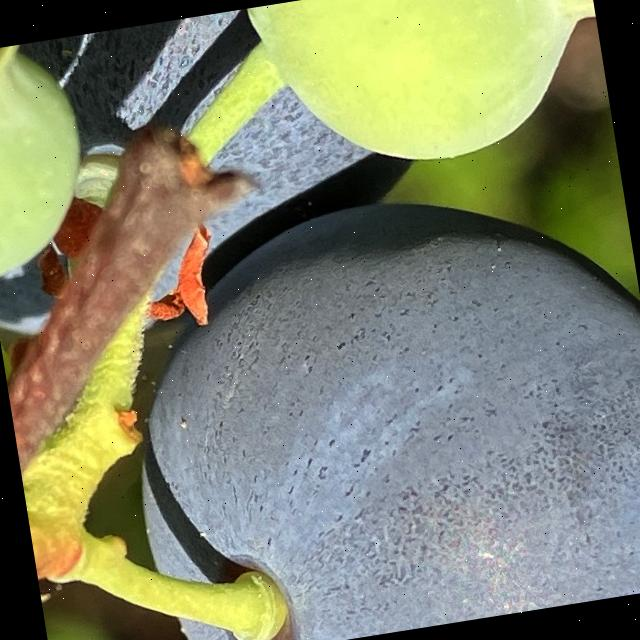Blueberries: (97, 161, 640, 640), (239, 0, 614, 190)
